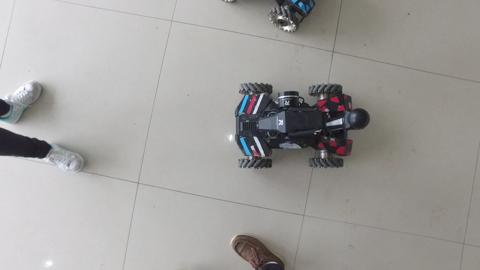chariot: (226, 80, 371, 171)
